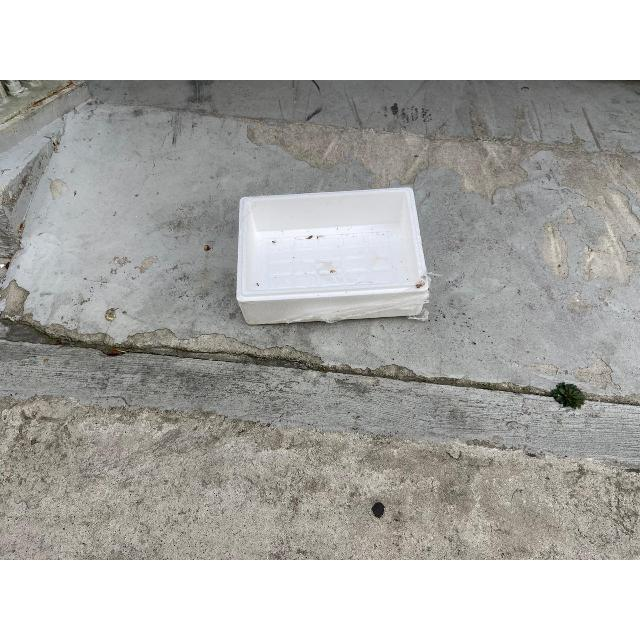Recipiente plastico: (236, 189, 429, 324)
